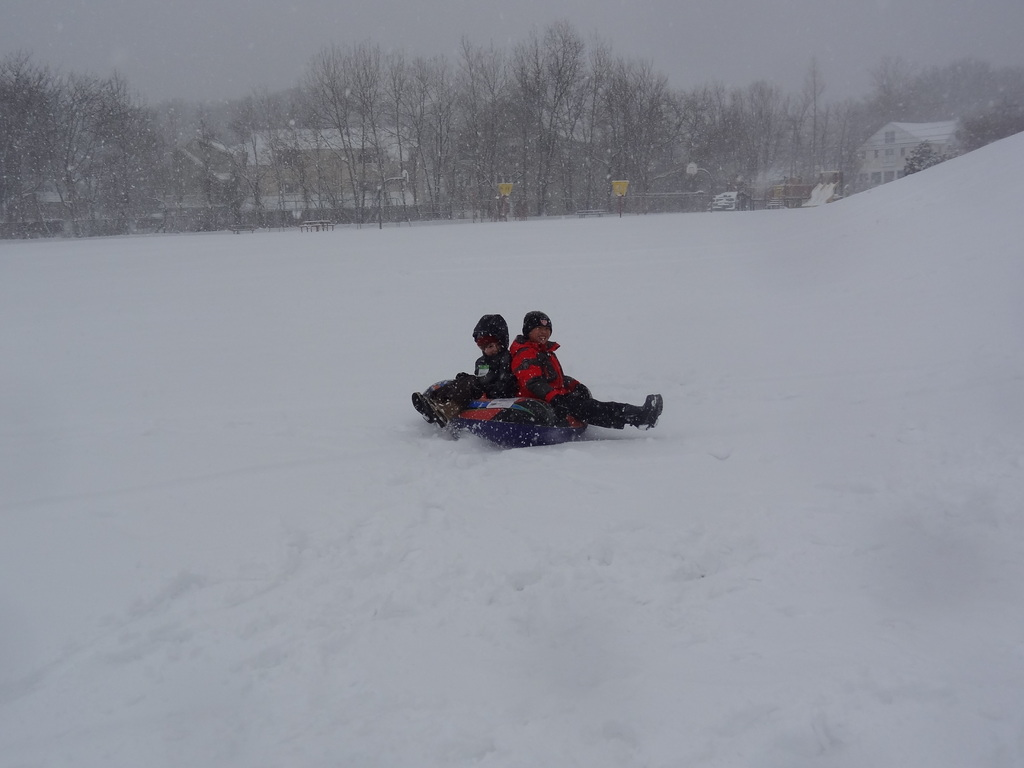Person: (508, 309, 665, 430), (412, 315, 511, 429)
